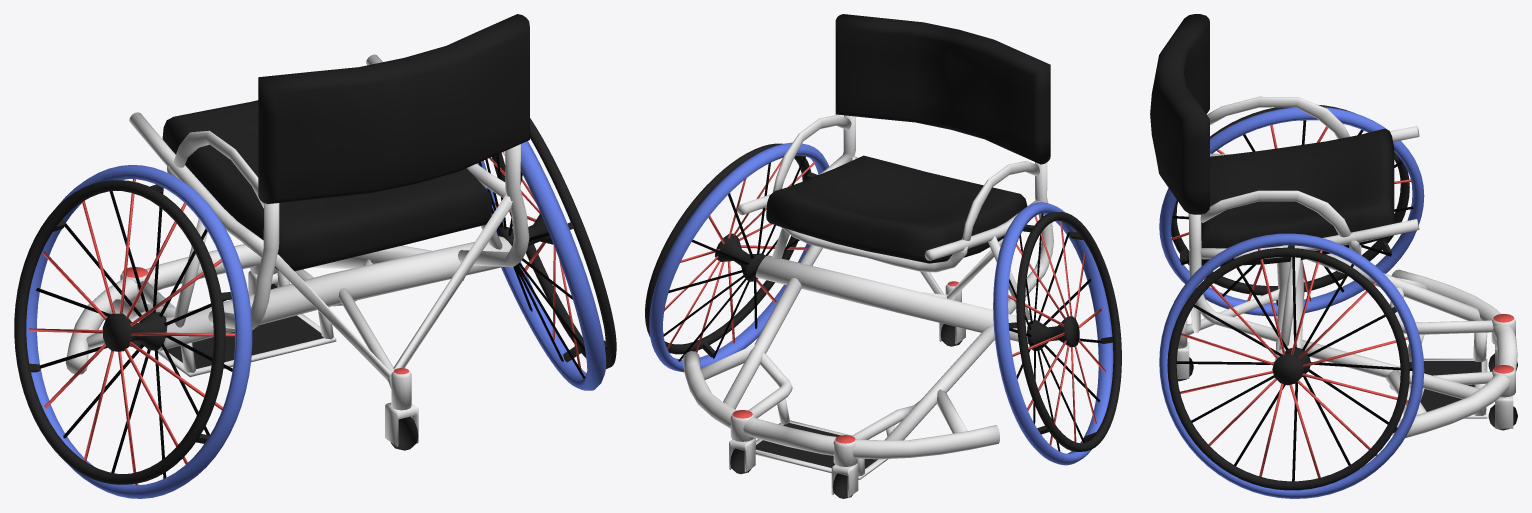
Rendered from Wheelchair.fbx.
The picture shows the model from 3 angles, left to right: view 1: azimuth 30°, elevation 25°; view 2: azimuth 150°, elevation 25°; view 3: azimuth 270°, elevation 25°; orthographic projection. The views are drawn at different scales.
Visible parts, largest first — view 1: Seat, Main_Frame, Wheel.003, Wheel.002, Cylinder.033; view 2: Seat, Main_Frame, Wheel.003, Wheel.002, Cylinder.022, Cylinder.005; view 3: Seat, Wheel.002, Main_Frame, Wheel.003, Cylinder.005.
Part boxes in pixels (x1,y1,x2,y2): Seat: (162,14,529,271); Main_Frame: (65,54,529,410); Wheel.003: (14,165,252,498); Wheel.002: (477,118,616,390); Cylinder.033: (385,402,418,446); Seat: (766,14,1050,263); Main_Frame: (682,114,1053,479); Wheel.003: (993,202,1121,465); Wheel.002: (645,142,829,372); Cylinder.022: (831,463,858,497); Cylinder.005: (729,438,755,472); Seat: (1150,14,1394,266); Wheel.002: (1159,233,1424,498); Main_Frame: (1178,96,1517,438); Wheel.003: (1159,105,1424,316); Cylinder.005: (1495,395,1513,428).
Size of the model in its own units: 430 by 327 by 335.
